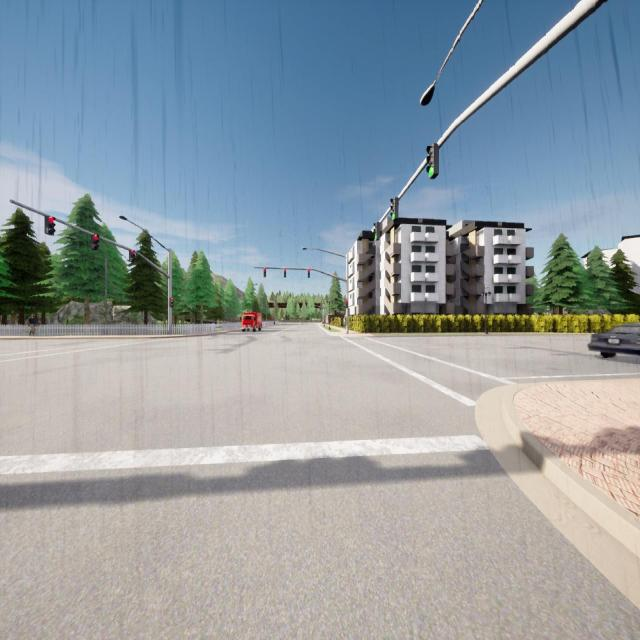Pedestrian: (27, 314, 38, 336)
Vehicle: (587, 322, 640, 357), (241, 312, 262, 332)
traffic_light: (426, 143, 439, 179), (44, 215, 56, 235), (391, 198, 398, 222), (373, 222, 380, 241), (92, 235, 100, 250), (129, 249, 134, 261), (169, 298, 174, 308), (346, 298, 348, 308), (308, 269, 310, 278), (284, 268, 286, 277), (264, 268, 266, 277)
